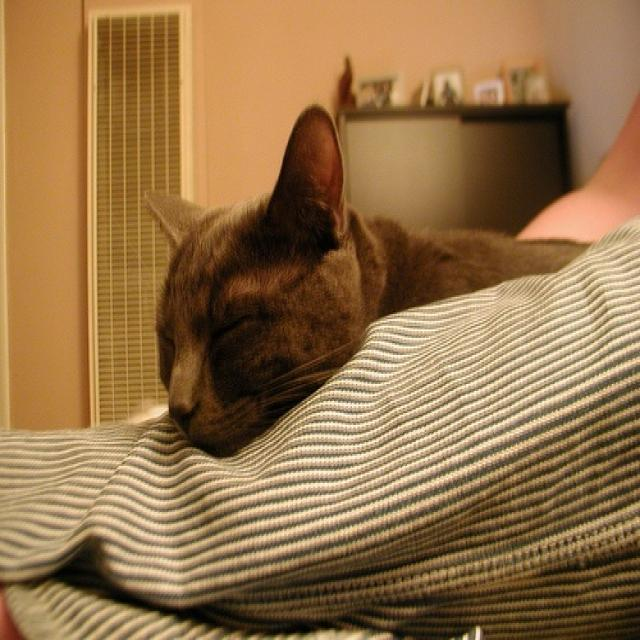cat: (139, 102, 589, 458)
